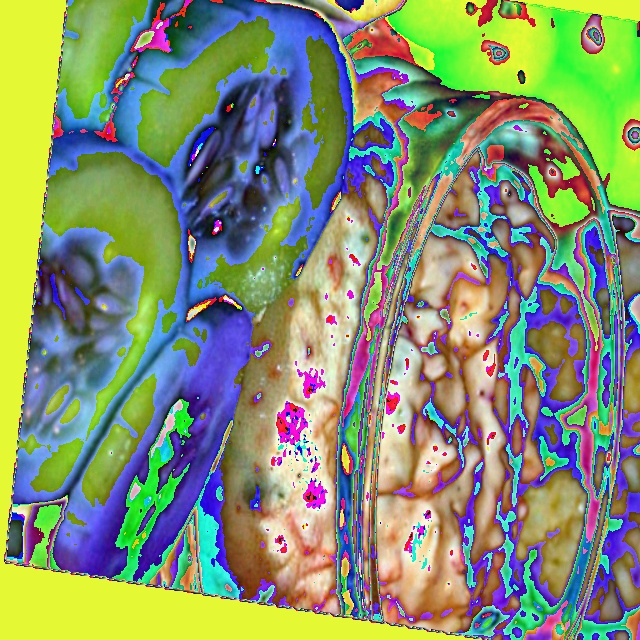background: (12, 0, 639, 640)
